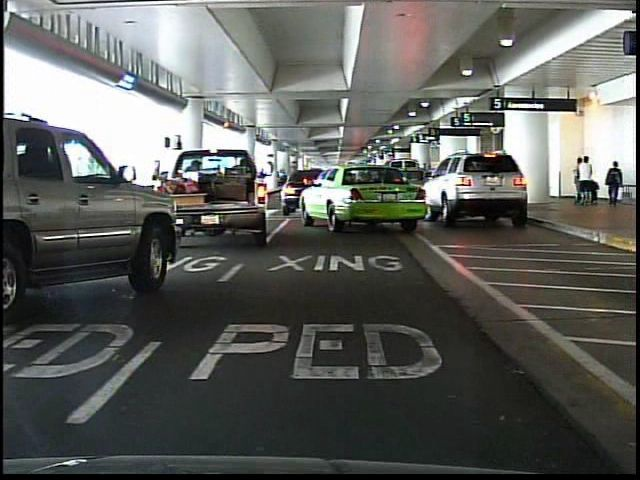person: (146, 156, 172, 218), (603, 159, 627, 208), (577, 154, 595, 209), (571, 157, 584, 207)
